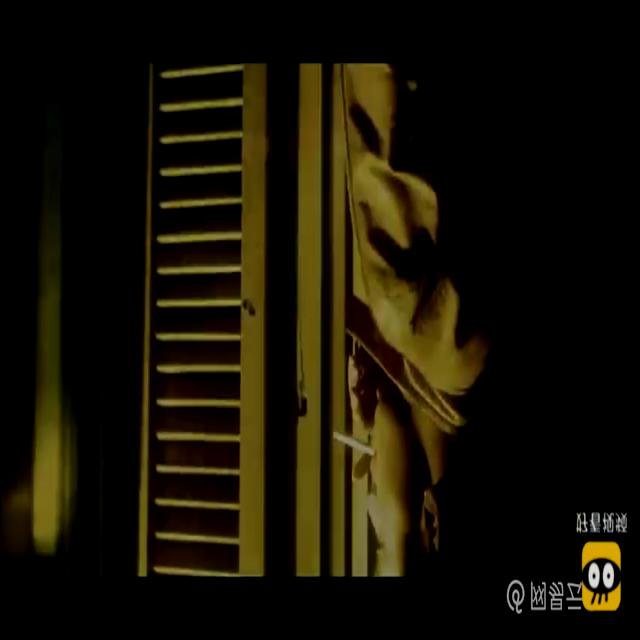smoke: (330, 427, 378, 456)
